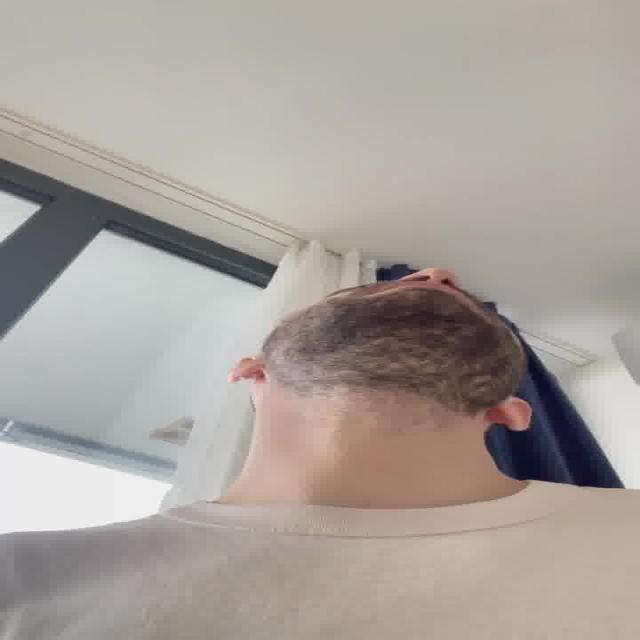earlobe: (490, 397, 532, 432), (223, 356, 266, 386)
